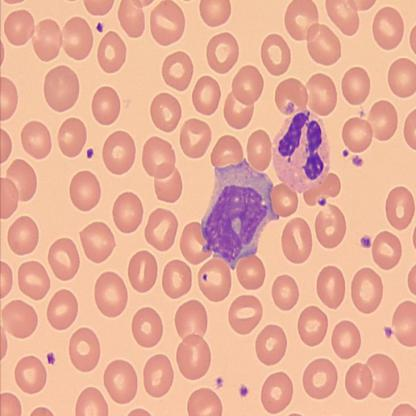Monocyte: (199, 156, 281, 272)
